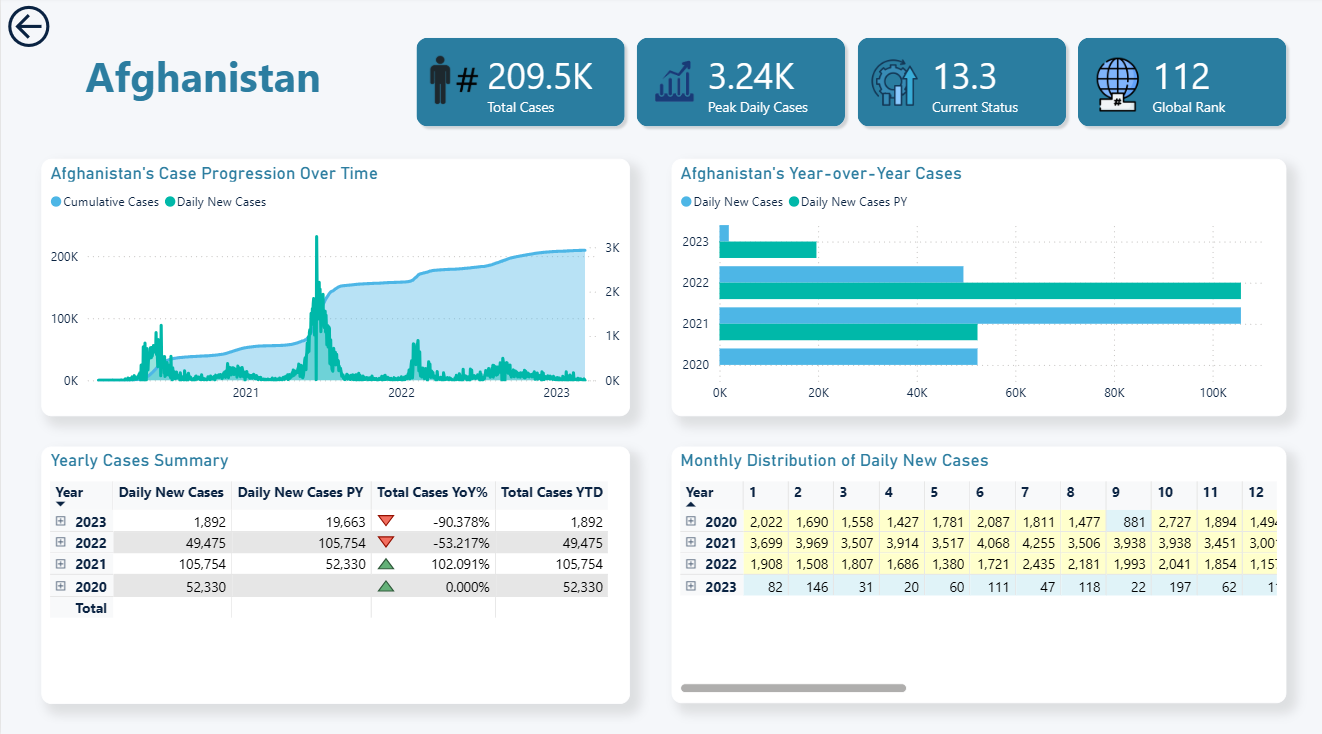

The page's visual inventory and layout, read from the dashboard file:
{"tool":"powerbi","page":{"name":"Country Dashboard","canvas":[1280,720],"ordinal":1},"visuals":[{"type":"cardVisual","fields":{"Data":["_Measures.Daily New Cases","_Measures.Peak Case Day","_Measures.Rolling Avg 7-Days","_Measures.Country Rank"]},"box":[391.3,29,867.1,108.5],"z":0},{"type":"cardVisual","title":"Dashboard Title","fields":{"Data":["_Measures.Dashboard Title"]},"box":[49.2,12.6,332,145.2],"z":1500},{"type":"actionButton","box":[1.3,3.8,58.1,51.7],"z":2000},{"type":"lineChart","fields":{"Category":["DimDate.Date"],"Y":["_Measures.Cumulative Cases"],"Y2":["_Measures.Daily New Cases"]},"box":[39.1,157.8,570.5,249.9],"z":3000},{"type":"clusteredBarChart","fields":{"Category":["DimDate.Year"],"Y":["_Measures.Daily New Cases","_Measures.Daily New Cases PY"]},"box":[650,157.8,595.8,249.9],"z":4000},{"type":"pivotTable","title":"Yearly Cases Summary","fields":{"Rows":["DimDate.Year","DimDate.Month Name"],"Values":["_Measures.Daily New Cases","_Measures.Daily New Cases PY","_Measures.Total Cases YoY%","_Measures.Total Cases YTD"]},"box":[39.1,436.7,570.5,249.9],"z":5000},{"type":"pivotTable","title":"Monthly Distribution of Daily New Cases","fields":{"Rows":["DimDate.Year","DimDate.Month Name"],"Columns":["DimDate.Day of Month"],"Values":["_Measures.Daily New Cases"]},"box":[650,436.7,595.8,248.7],"z":6000}]}

Visuals, with their boxes in screenshot pixels (x1, y1, x2, y2), scaled from the page's 1280x720 canvas onto the 1322x734 screenshot:
cardVisual - _Measures.Daily New Cases x _Measures.Peak Case Day: [404,30,1300,140]
"Dashboard Title" cardVisual: [51,13,394,161]
actionButton: [1,4,61,57]
lineChart - DimDate.Date x _Measures.Cumulative Cases: [40,161,630,416]
clusteredBarChart - DimDate.Year x _Measures.Daily New Cases: [671,161,1287,416]
"Yearly Cases Summary" pivotTable: [40,445,630,700]
"Monthly Distribution of Daily New Cases" pivotTable: [671,445,1287,699]
